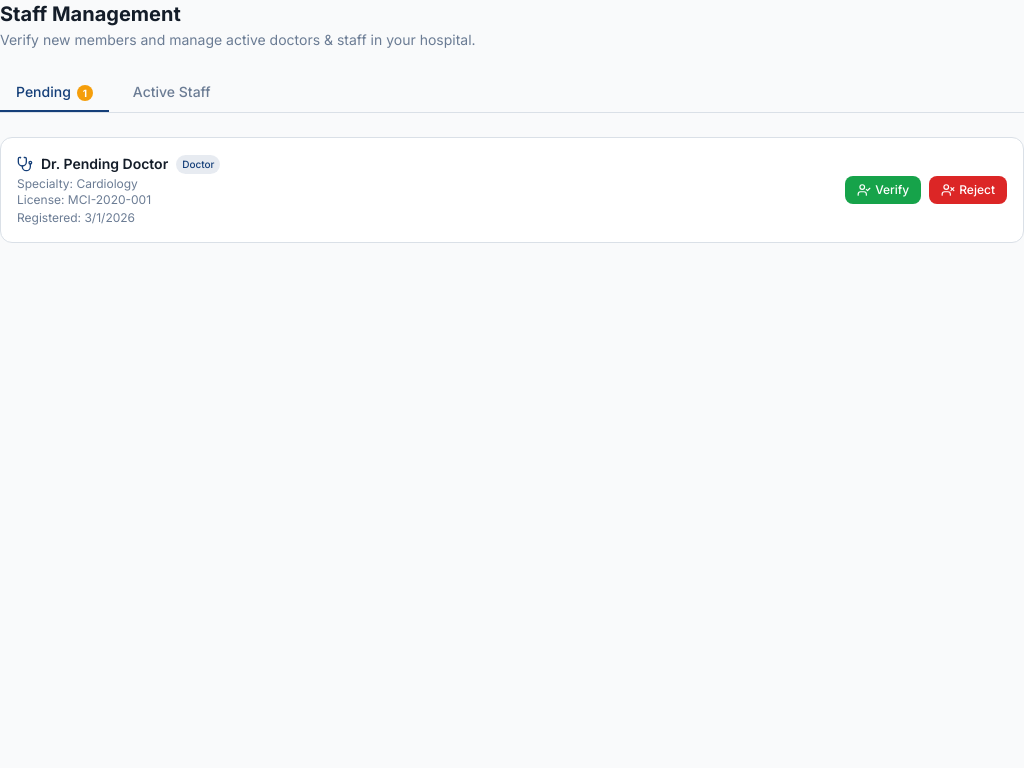
Test: StaffPage — Pending tab › opens reject modal on reject button click
Click the button with test id "reject-btn" at {"x": 968, "y": 190}, box [929, 176, 1007, 204]
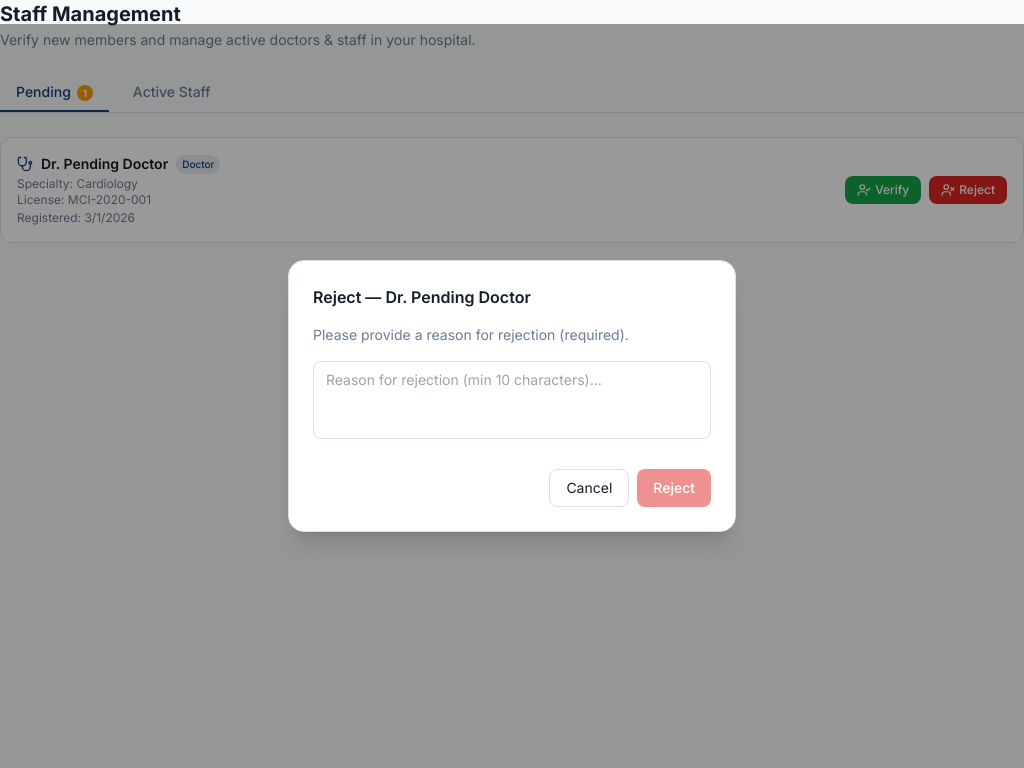
Now the element with test id "verify-modal" is shown
Now the text box with placeholder "Reason for rejection (min 10 characters)…" is shown, box [313, 361, 711, 439]
